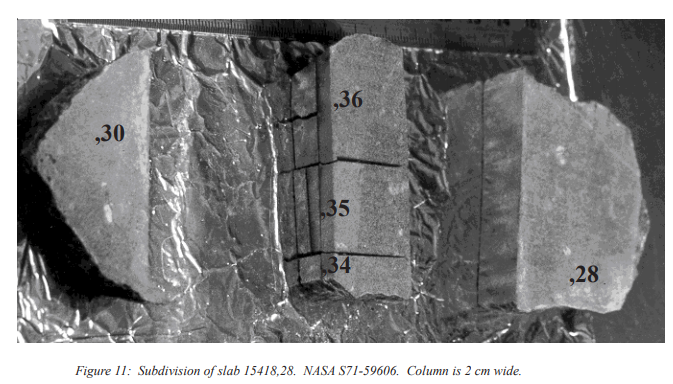Breccia: (502, 64, 636, 329), (44, 47, 167, 321), (292, 60, 418, 291)
